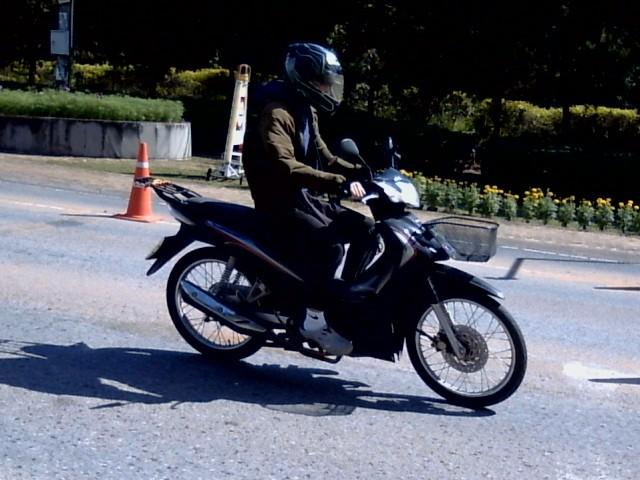helmet: (285, 41, 343, 113)
motor: (325, 139, 526, 407), (134, 174, 340, 362)
person: (243, 43, 373, 287), (299, 295, 350, 353)
